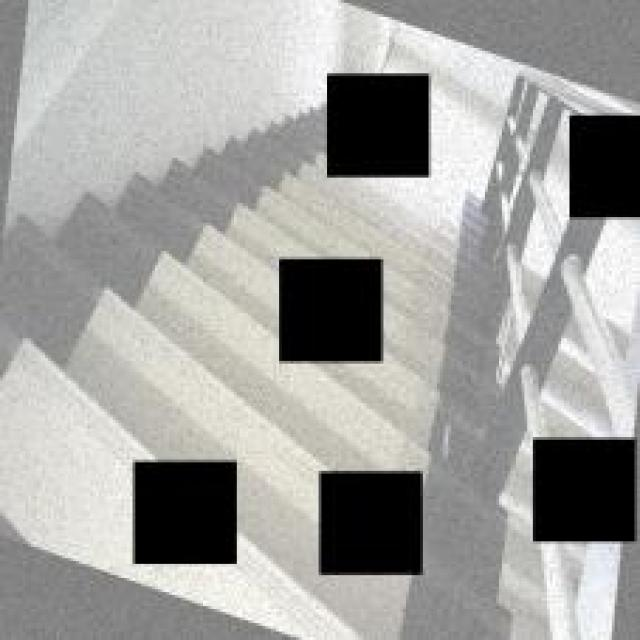downstair: (14, 240, 271, 454)
